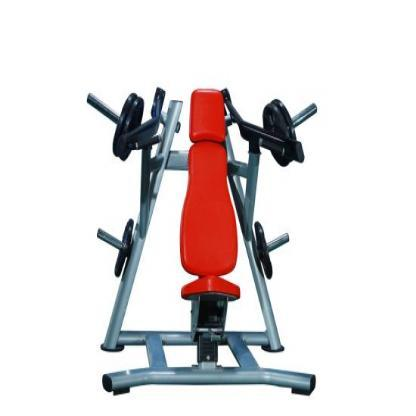shoulder press machine: (86, 90, 320, 405)
